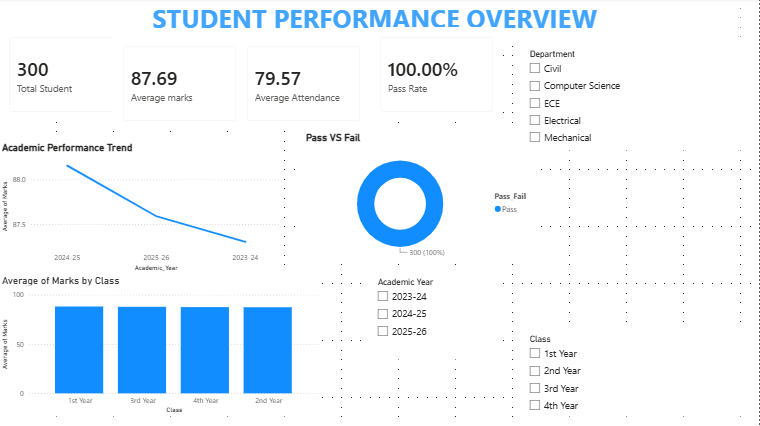

This screenshot's page, from the dashboard's own definition file:
{"tool":"powerbi","page":{"name":"student performance over view","canvas":[1280,720],"ordinal":0},"visuals":[{"type":"textbox","box":[16,0,1232,80],"z":0},{"type":"cardVisual","fields":{"Data":["Count(Student_Data.Student_ID)"]},"box":[0,48,224,160],"z":2000},{"type":"cardVisual","fields":{"Data":["Avg(Student_Data.Marks)"]},"box":[192,64,224,160],"z":3000},{"type":"cardVisual","fields":{"Data":["Avg(Student_Data.Attendance_Percentage)"]},"box":[400,64,224,160],"z":3001},{"type":"cardVisual","fields":{"Data":["Resource_Summary.Pass Rate"]},"box":[624,48,224,160],"z":3002},{"type":"lineChart","title":"Academic Performance Trend","fields":{"Category":["Student_Data.Academic_Year"],"Y":["Avg(Student_Data.Marks)"]},"box":[0,240,480,224],"z":3003},{"type":"clusteredColumnChart","fields":{"Category":["Student_Data.Class"],"Y":["Avg(Student_Data.Marks)"]},"box":[0,464,544,240],"z":3004},{"type":"donutChart","title":"Pass VS Fail","fields":{"Category":["Student_Data.Pass_Fail"],"Y":["CountNonNull(Student_Data.Student_ID)"]},"box":[512,224,400,224],"z":3005},{"type":"slicer","fields":{"Values":["Student_Data.Academic_Year"]},"box":[624,464,224,144],"z":3006},{"type":"slicer","fields":{"Values":["Resource_Summary.Department"]},"box":[880,80,400,176],"z":3007},{"type":"slicer","fields":{"Values":["Student_Data.Class"]},"box":[880,560,400,144],"z":3008}]}

Visuals, with their boxes in screenshot pixels (x1, y1, x2, y2), scaled from the page's 1280x720 canvas onto the 760x426 screenshot:
textbox: BBox(10, 0, 741, 47)
cardVisual - Count(Student_Data.Student_ID): BBox(0, 28, 133, 123)
cardVisual - Avg(Student_Data.Marks): BBox(114, 38, 247, 133)
cardVisual - Avg(Student_Data.Attendance_Percentage): BBox(238, 38, 370, 133)
cardVisual - Resource_Summary.Pass Rate: BBox(370, 28, 504, 123)
"Academic Performance Trend" lineChart: BBox(0, 142, 285, 275)
clusteredColumnChart - Student_Data.Class x Avg(Student_Data.Marks): BBox(0, 275, 323, 417)
"Pass VS Fail" donutChart: BBox(304, 133, 542, 265)
slicer - Student_Data.Academic_Year: BBox(370, 275, 504, 360)
slicer - Resource_Summary.Department: BBox(522, 47, 759, 151)
slicer - Student_Data.Class: BBox(522, 331, 759, 417)
